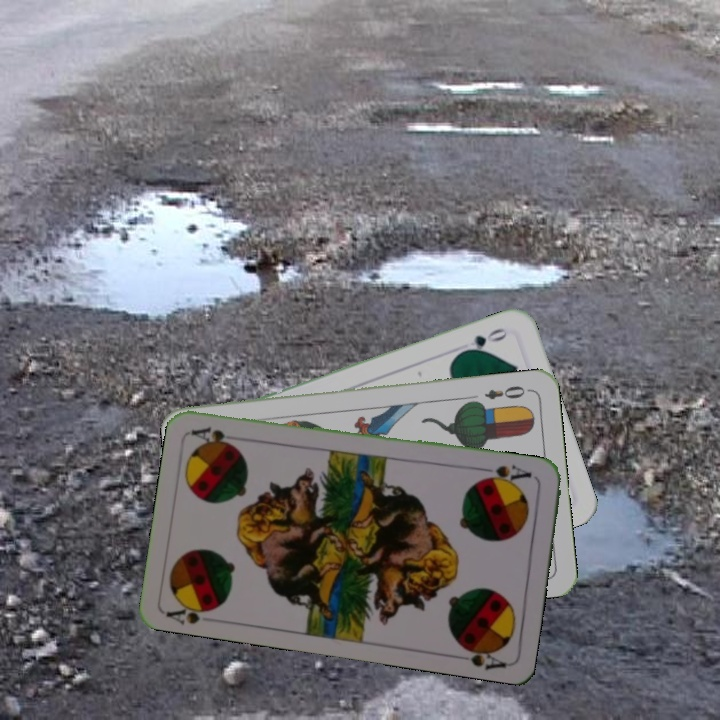EO: (481, 381, 533, 402)
GO: (456, 324, 510, 357)
SA: (162, 597, 224, 627), (477, 460, 535, 488)
